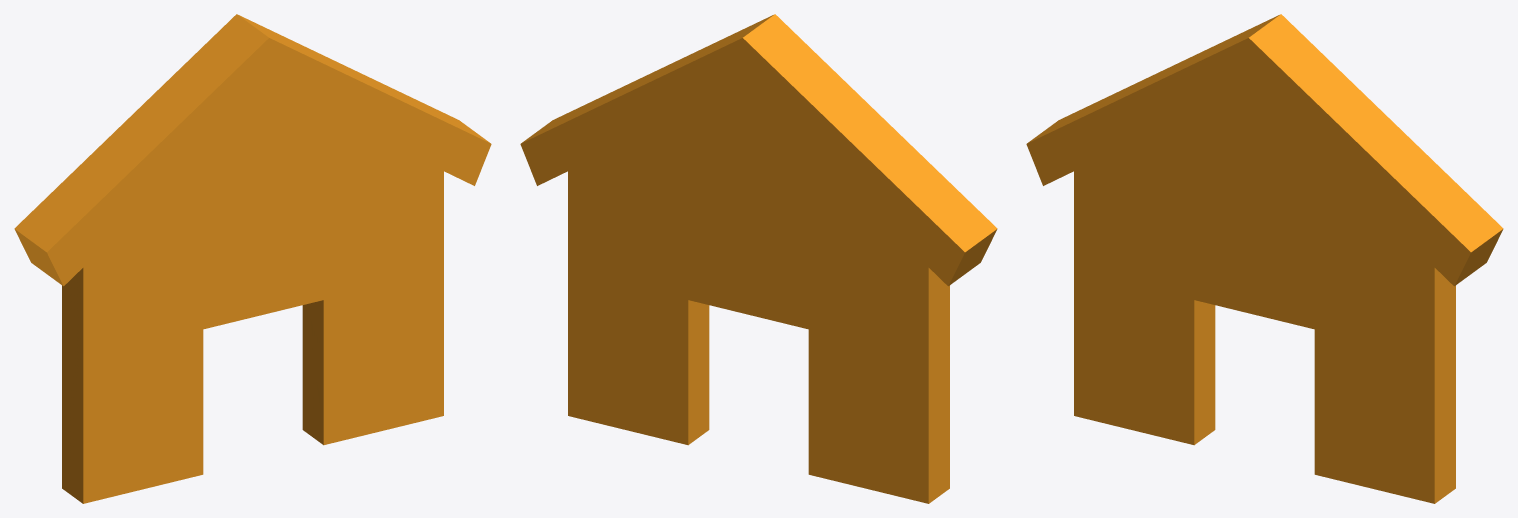
Rendered from SM_Icon_Home_01.fbx.
3 renders of one model, left to right at view 1: azimuth 30°, elevation 25°; view 2: azimuth 150°, elevation 25°; view 3: azimuth 330°, elevation 25°, orthographic.
Visible parts, largest first — view 1: SM_Icon_Home_01; view 2: SM_Icon_Home_01; view 3: SM_Icon_Home_01.
Boxes of the visible parts, x1,y1,x2,y2 form: SM_Icon_Home_01: (14,14,491,503); SM_Icon_Home_01: (520,14,997,503); SM_Icon_Home_01: (1026,14,1503,503).
Bounding box in the file's own units: 62.2 × 56.96 × 7.88.
